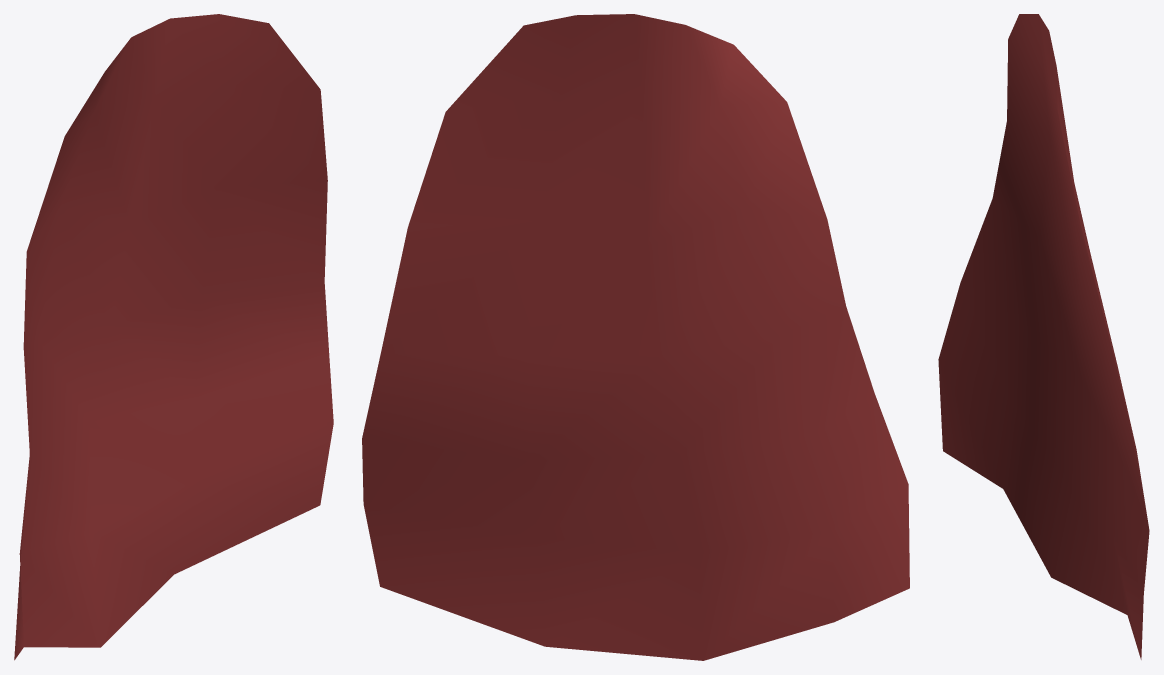
File: subcutaneous-calcaneal-bursa-l.glb
3 views of the same model, side by side, from view 1: azimuth 30°, elevation 25°; view 2: azimuth 150°, elevation 25°; view 3: azimuth 270°, elevation 25° (orthographic). The views are drawn at different scales.
Parts seen in each view (by area): view 1: Subcutaneous calcaneal bursa.l; view 2: Subcutaneous calcaneal bursa.l; view 3: Subcutaneous calcaneal bursa.l.
Part boxes in pixels (x1,y1,x2,y2): Subcutaneous calcaneal bursa.l: [14, 14, 333, 660]; Subcutaneous calcaneal bursa.l: [362, 14, 909, 660]; Subcutaneous calcaneal bursa.l: [938, 14, 1149, 659].
Size of the model in its own units: 0.0213 by 0.0292 by 0.00968.
